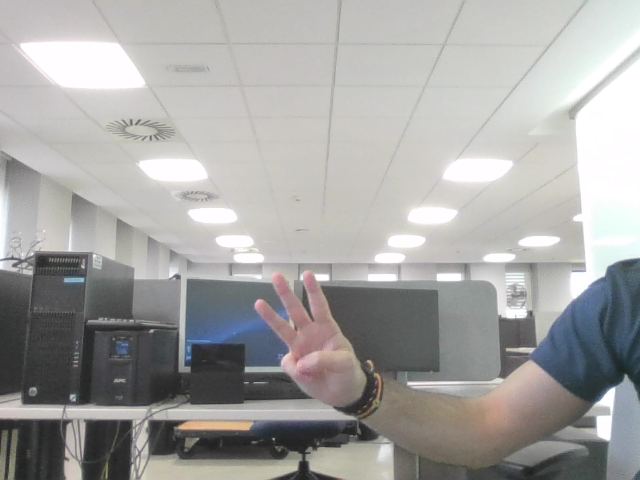3Dedos: (265, 282, 346, 374)
